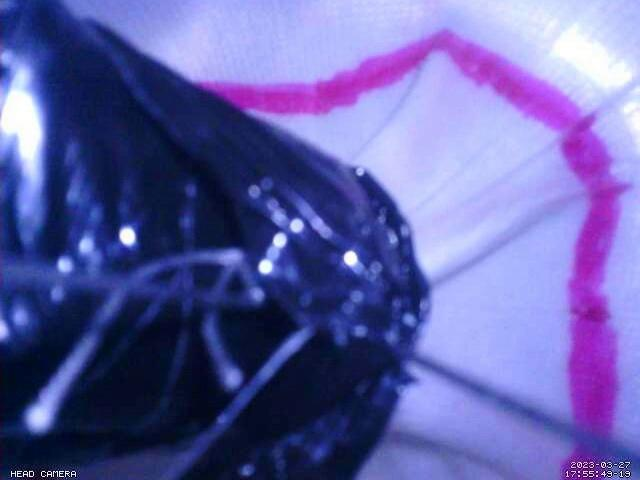red-circle: (195, 27, 620, 480)
